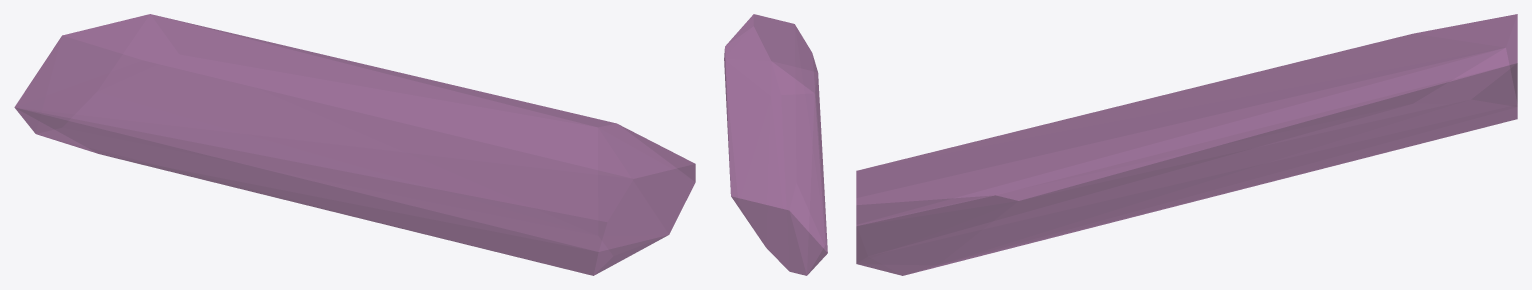
The picture shows the model from 3 angles, left to right: view 1: azimuth 30°, elevation 25°; view 2: azimuth 150°, elevation 25°; view 3: azimuth 270°, elevation 25°; orthographic projection. The views are drawn at different scales.
Visible parts, largest first — view 1: Shape_IndexedFaceSet.024_Shape_IndexedFaceSet.5915; view 2: Shape_IndexedFaceSet.024_Shape_IndexedFaceSet.5915; view 3: Shape_IndexedFaceSet.024_Shape_IndexedFaceSet.5915.
Boxes of the visible parts, x1,y1,x2,y2 form: Shape_IndexedFaceSet.024_Shape_IndexedFaceSet.5915: (14,14,695,275); Shape_IndexedFaceSet.024_Shape_IndexedFaceSet.5915: (724,14,827,275); Shape_IndexedFaceSet.024_Shape_IndexedFaceSet.5915: (856,14,1517,275).
Bounding box in the file's own units: 0.0887 × 0.0197 × 0.1123.
